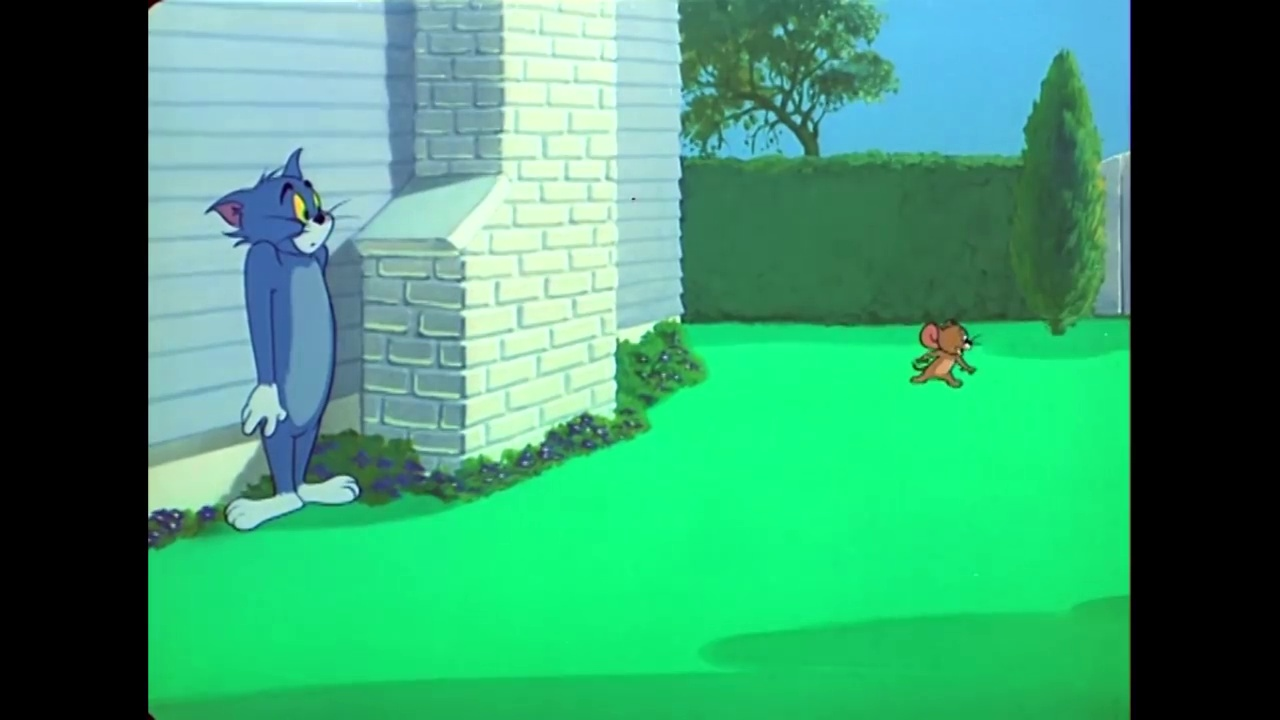tom: (205, 146, 343, 265)
